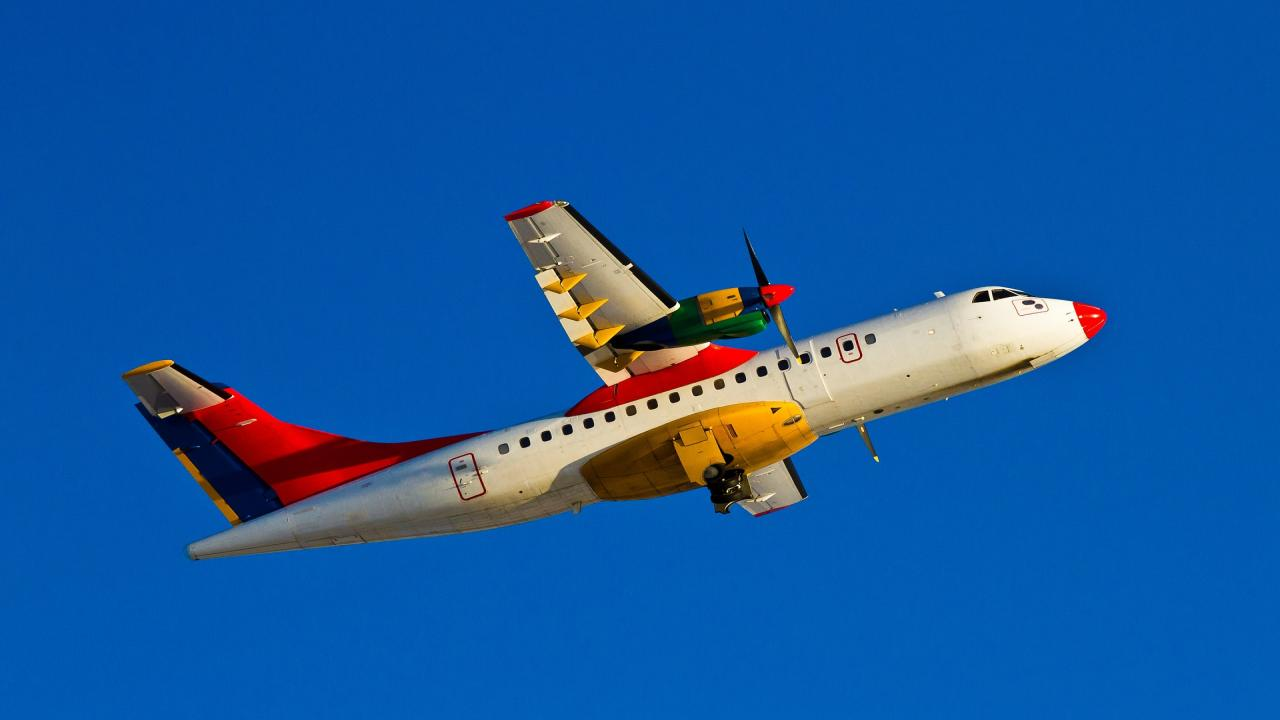Airplane: (91, 175, 1127, 578)
